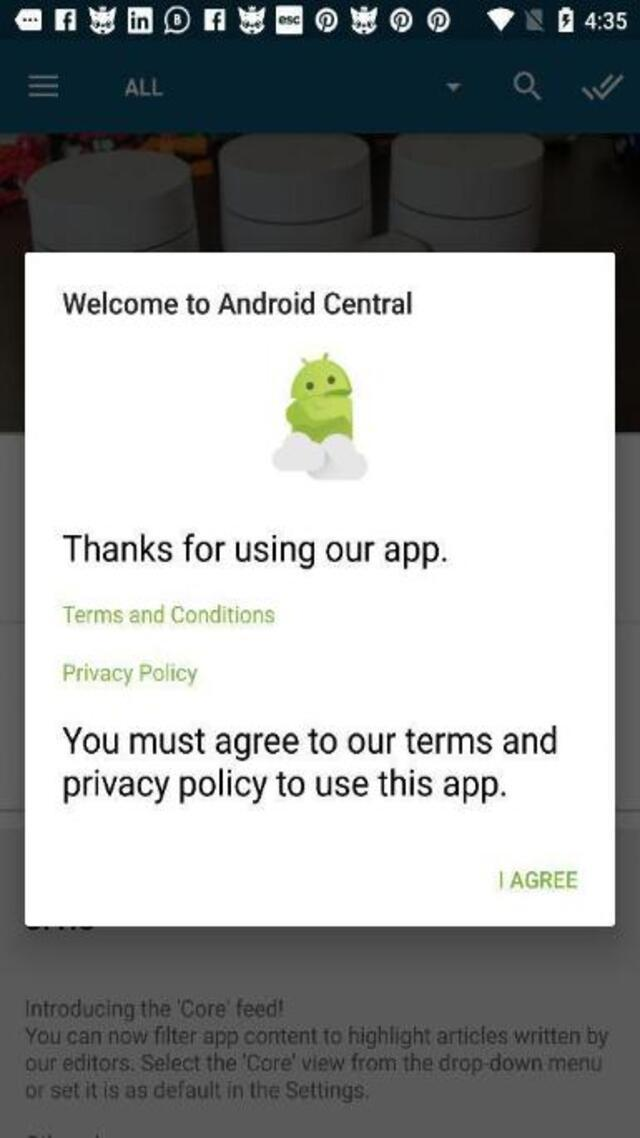Icon: (581, 73, 623, 101), (514, 70, 540, 100), (27, 74, 59, 97)
Image: (270, 352, 368, 480)
Text: (58, 764, 508, 808), (62, 725, 558, 757), (17, 1024, 615, 1050), (62, 532, 446, 570), (17, 1052, 615, 1075), (62, 290, 413, 318), (18, 1078, 376, 1102), (18, 997, 288, 1021), (62, 603, 274, 624), (63, 662, 196, 686), (500, 868, 578, 889), (125, 76, 163, 98)
